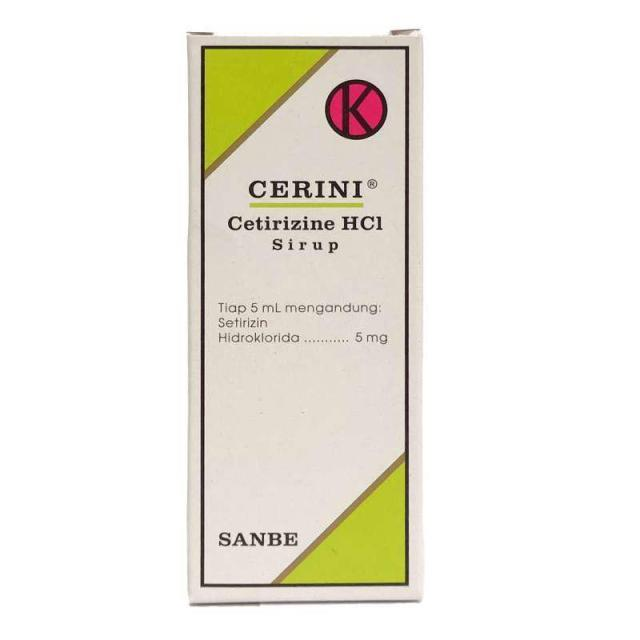drug-name: (250, 172, 362, 202)
